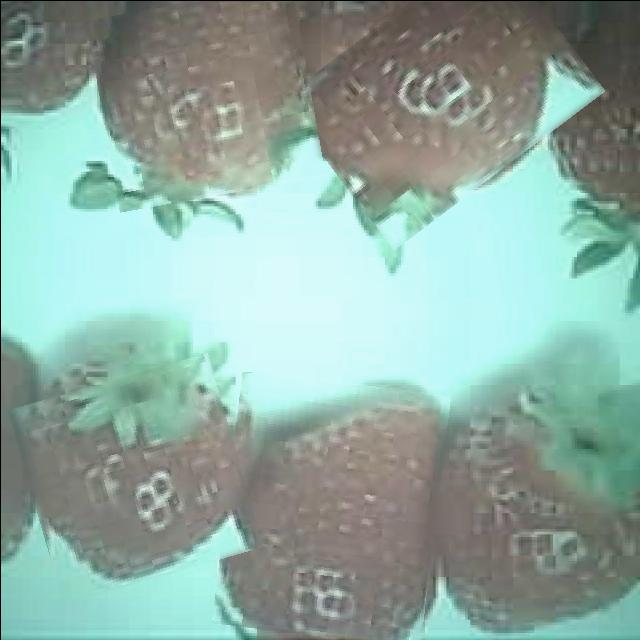strawberry: (294, 0, 589, 220), (219, 377, 443, 640), (19, 364, 251, 590), (92, 0, 316, 204)
